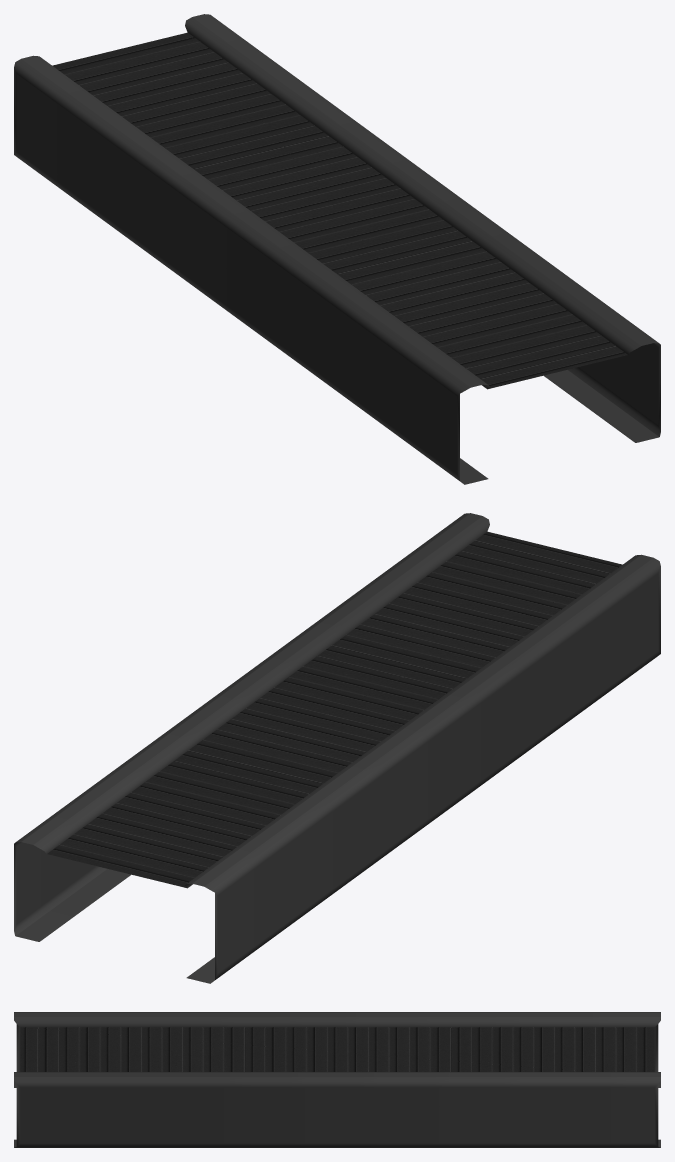
File: conveyor_v1.fbx
The picture shows the model from 3 angles, top to bottom: view 1: azimuth 30°, elevation 25°; view 2: azimuth 150°, elevation 25°; view 3: azimuth 270°, elevation 25°; orthographic projection. The views are drawn at different scales.
Visible parts, largest first — view 1: tiling, kenar2, kenar1; view 2: tiling, kenar2, kenar1; view 3: kenar1, tiling, kenar2.
Boxes of the visible parts, box(x1,y1,x2,y2) form: tiling: box(52, 32, 627, 388); kenar2: box(14, 55, 489, 484); kenar1: box(185, 14, 660, 442); tiling: box(47, 531, 622, 887); kenar2: box(185, 554, 660, 983); kenar1: box(14, 513, 489, 941); kenar1: box(14, 1072, 660, 1147); tiling: box(20, 1027, 654, 1071); kenar2: box(14, 1012, 660, 1087).
Bounding box in the file's own units: 475 × 216 × 1838.
2 materials, 2 textured.
